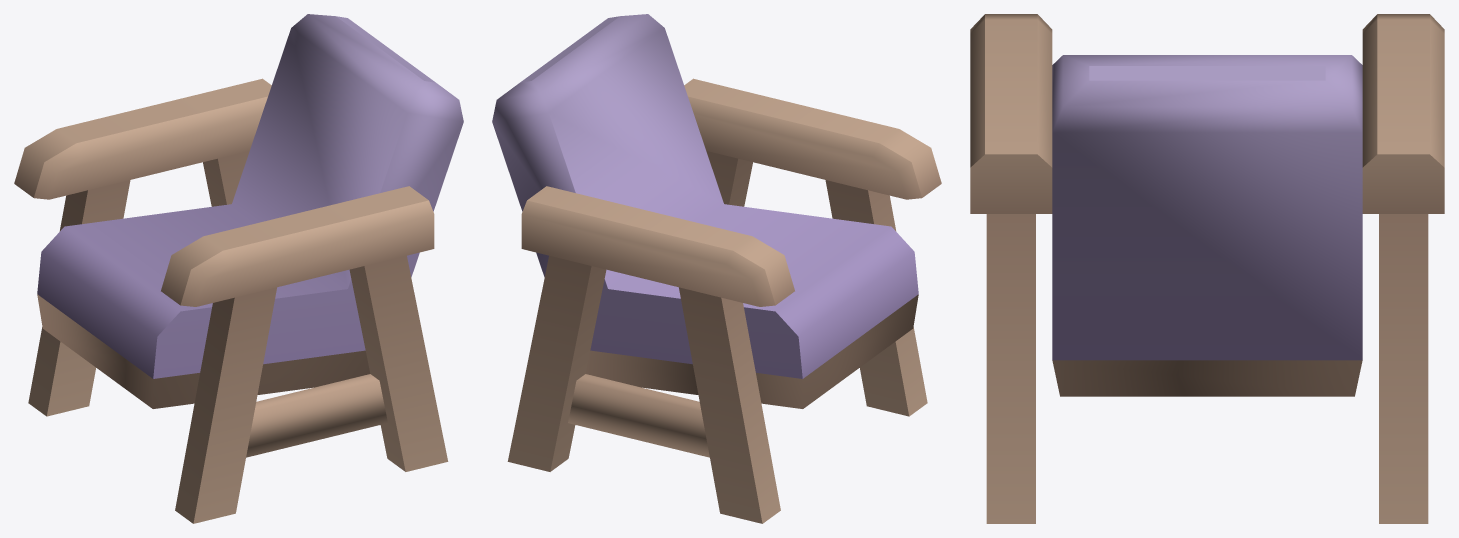
File: comfy-chair (%thumbnail).glb
3 renders of one model, left to right at view 1: azimuth 30°, elevation 25°; view 2: azimuth 150°, elevation 25°; view 3: azimuth 270°, elevation 25°, orthographic. The views are drawn at different scales.
Parts seen in each view (by area): view 1: comfy-chair (%thumbnail); view 2: comfy-chair (%thumbnail); view 3: comfy-chair (%thumbnail).
Part boxes in pixels (x1,y1,x2,y2): comfy-chair (%thumbnail): [14, 14, 463, 523]; comfy-chair (%thumbnail): [492, 14, 941, 523]; comfy-chair (%thumbnail): [970, 14, 1444, 523].
Bounding box in the file's own units: 0.651 × 0.6995 × 0.6436.
